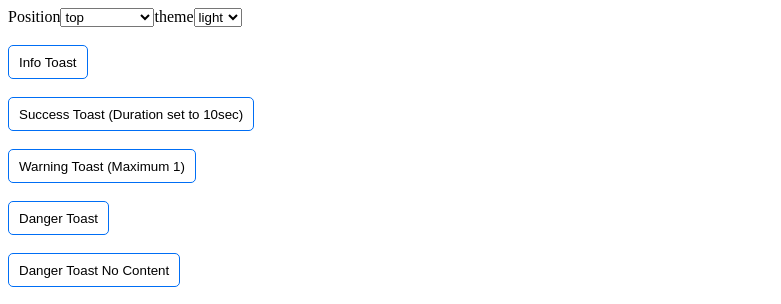
Test case: Toasts › Adds info toast on click
Click the button "Info Toast" at (48, 62), box [8,45,88,79]
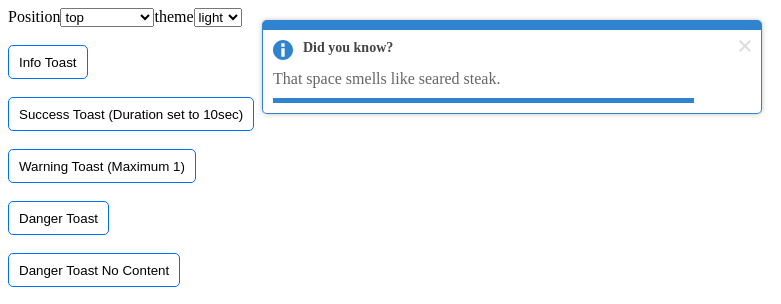
Now the text "Did you know?" is shown, box [303,40,393,60]
